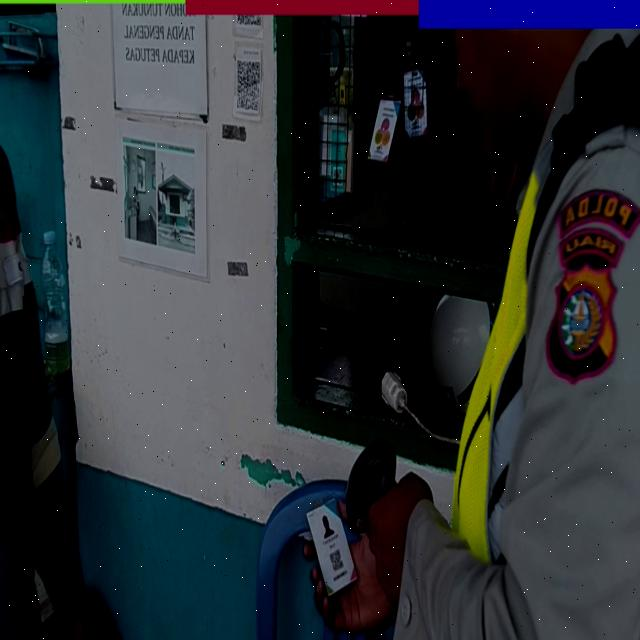No Glove: (314, 506, 403, 640), (367, 471, 434, 596)
No Overall Suit: (400, 116, 640, 640)
Overall Suit: (0, 115, 89, 640)
